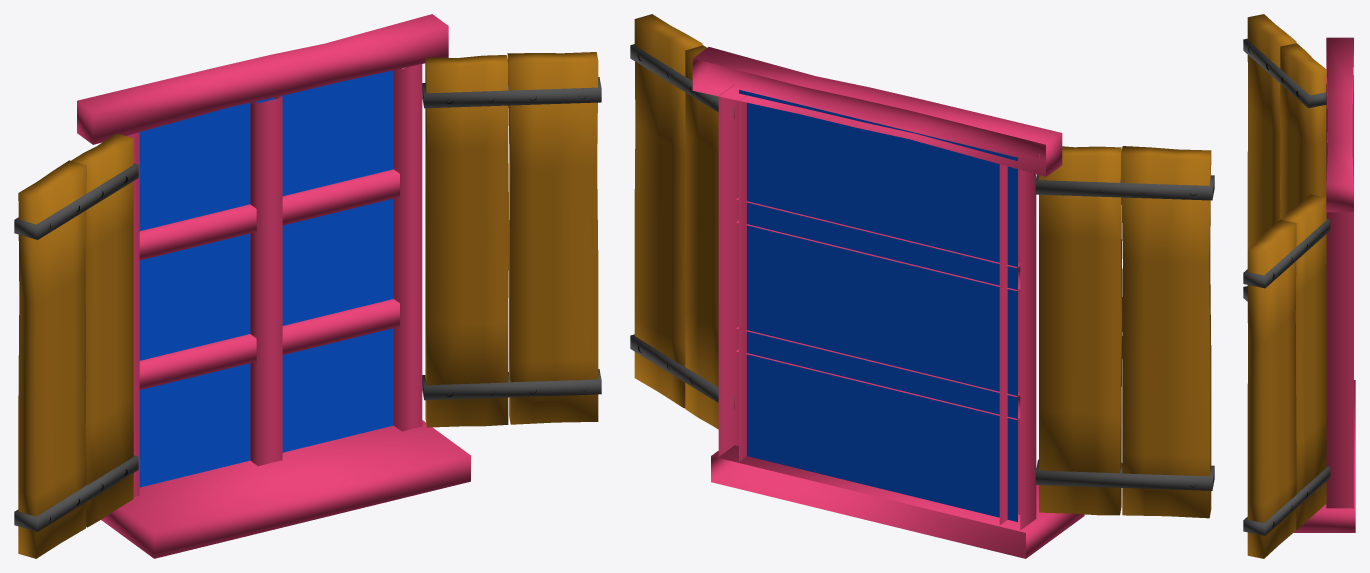
File: mod_ventana2.fbx
3 views of the same model, side by side, from view 1: azimuth 30°, elevation 25°; view 2: azimuth 150°, elevation 25°; view 3: azimuth 270°, elevation 25° (orthographic). The views are drawn at different scales.
Visible parts, largest first — view 1: Pared.004; view 2: Pared.004; view 3: Pared.004.
Boxes of the visible parts, left/top/right/bottom form: Pared.004: left=14, top=14, right=601, bottom=558; Pared.004: left=630, top=14, right=1214, bottom=558; Pared.004: left=1243, top=14, right=1355, bottom=558.
Bounding box in the file's own units: 126 × 86.22 × 24.57.
